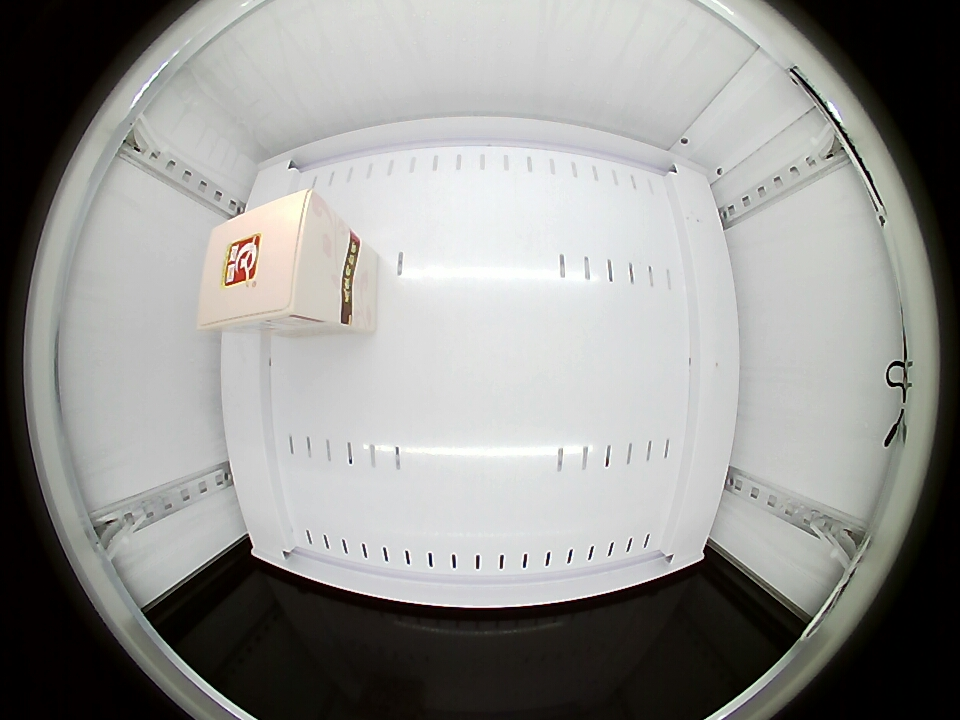rousongbing: (197, 188, 349, 332)
